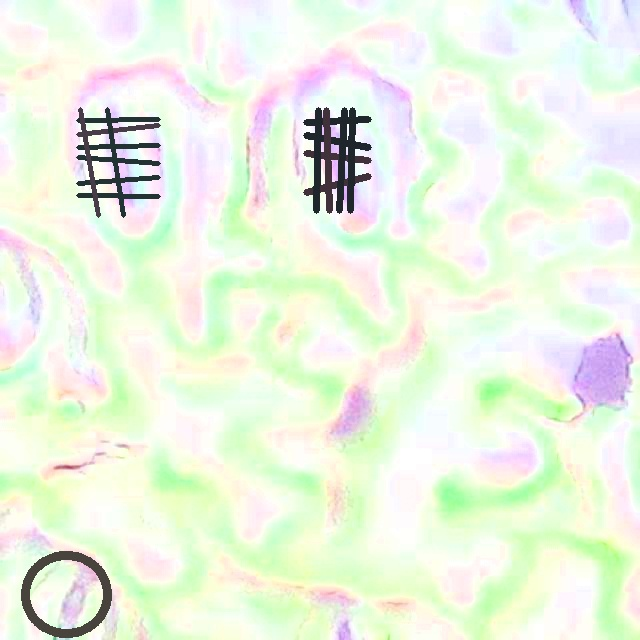open: (76, 107, 160, 217), (21, 551, 111, 638), (304, 108, 371, 212)
